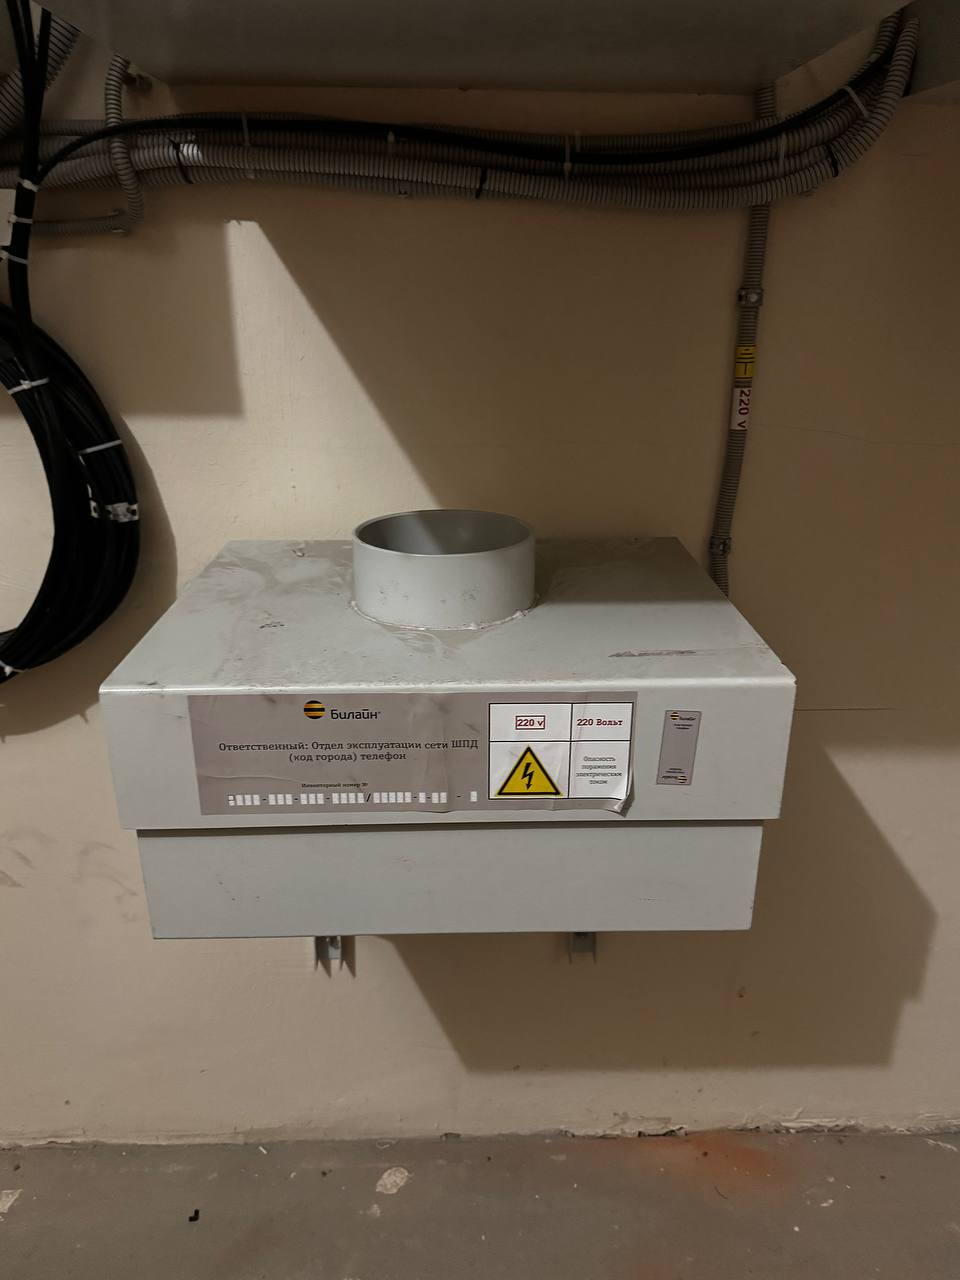shta-ps: (84, 487, 812, 952)
